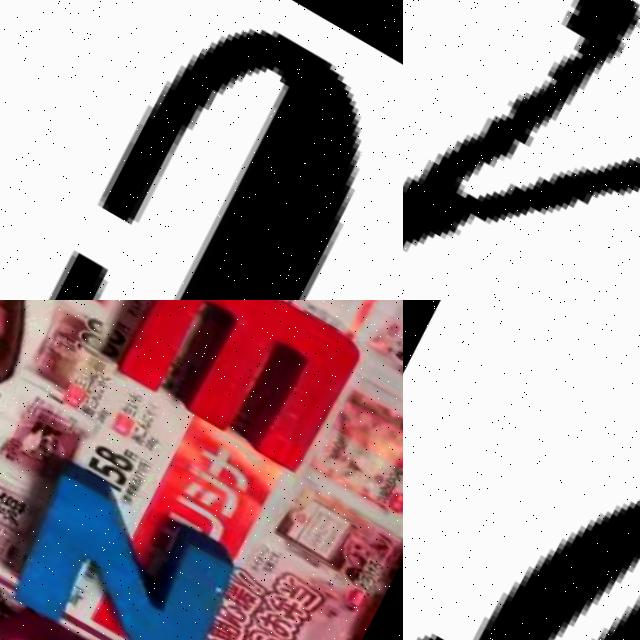A: (403, 0, 640, 300)
C: (94, 25, 361, 300)
G: (403, 300, 640, 640)
N: (0, 455, 241, 640)
W: (100, 300, 367, 475)
